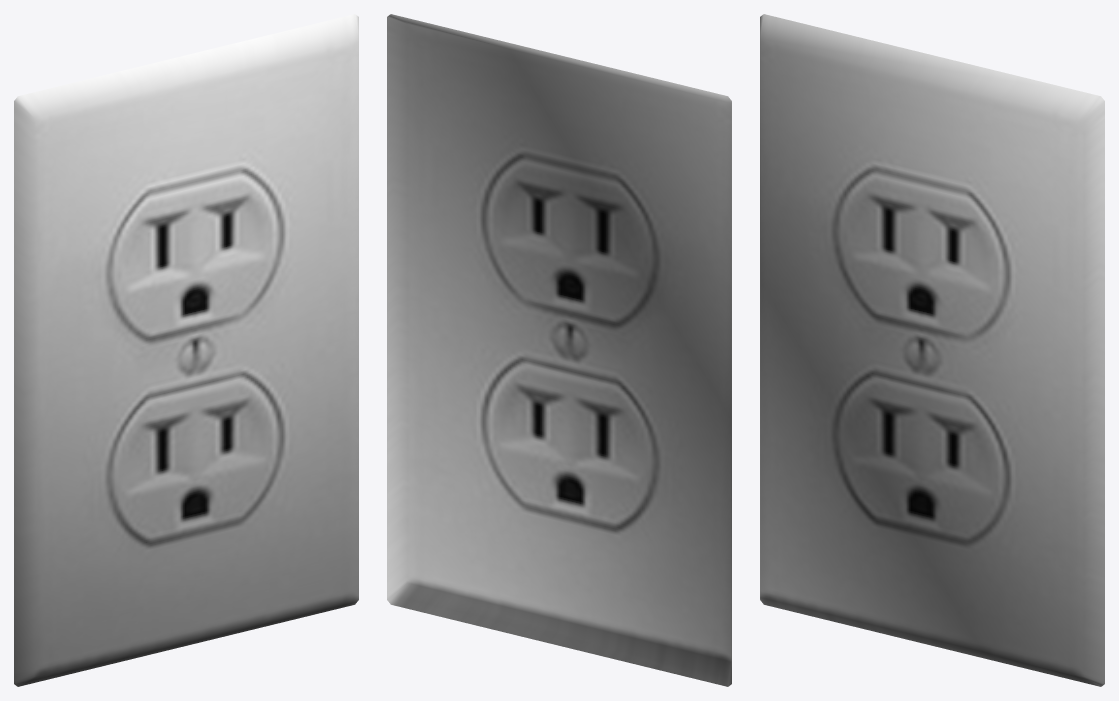
File: PowerSocket01.FBX
3 views of the same model, side by side, from view 1: azimuth 30°, elevation 25°; view 2: azimuth 150°, elevation 25°; view 3: azimuth 330°, elevation 25° (orthographic).
Visible parts, largest first — view 1: PowerSocket01; view 2: PowerSocket01; view 3: PowerSocket01.
Part boxes in pixels (x1,y1,x2,y2): PowerSocket01: (14,14,358,686); PowerSocket01: (387,14,731,686); PowerSocket01: (760,14,1104,686).
Size of the model in its own units: 4.43 by 7.25 by 0.2219.
